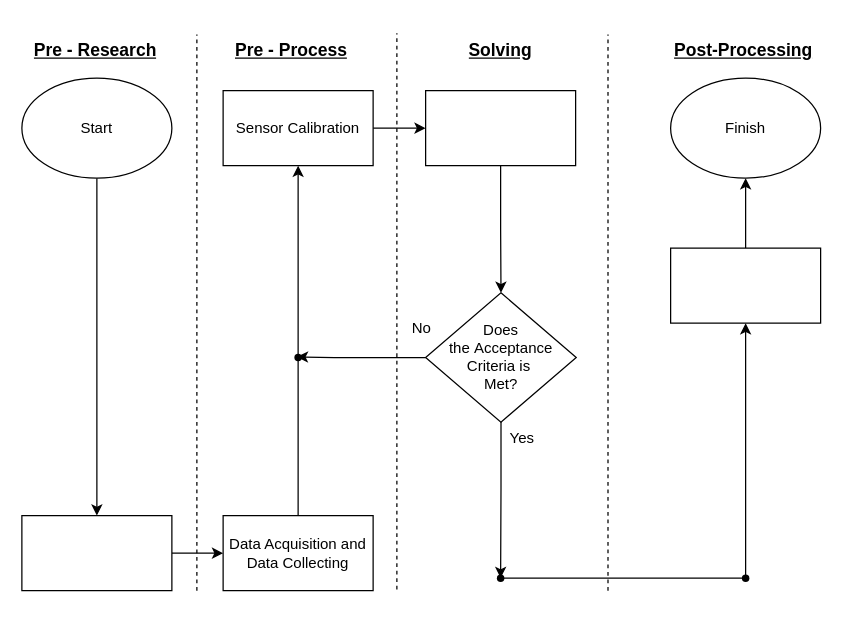
Image size: 843x625. Some labels were removed from this diagram. Each missing label, with the centre of its shape:
Analysis and Discussion: (x=745, y=285)
Math Equation Modelling: (x=500, y=127)
Study Literature: (x=96, y=552)
